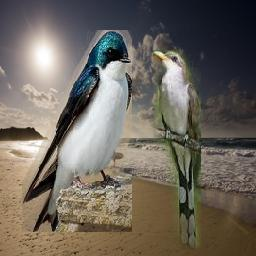Cuckoo: (153, 50, 201, 250)
Swallow: (22, 30, 132, 232)
